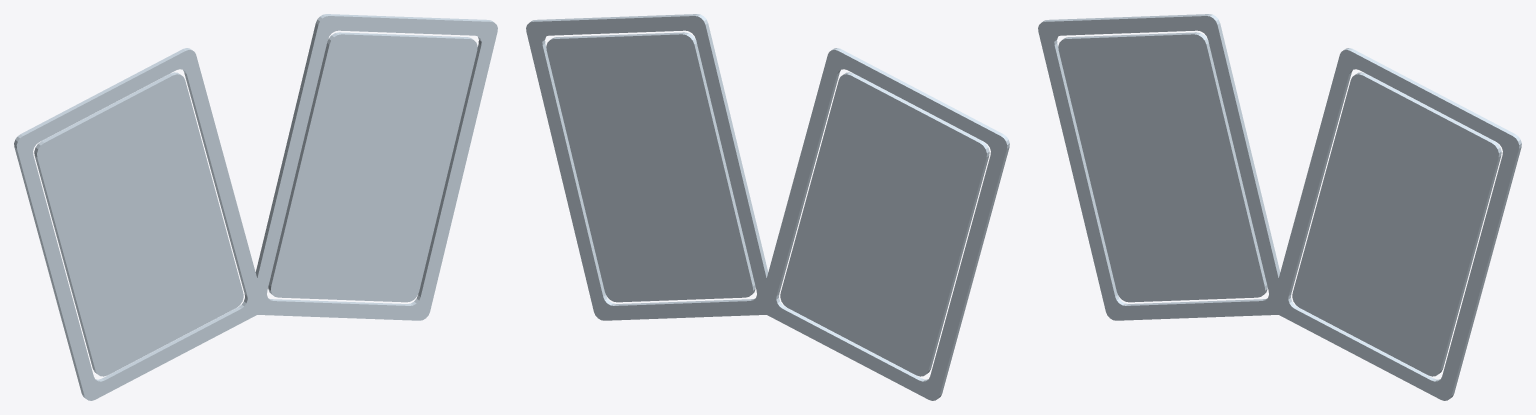
The model's file is Card_3D_Icon_02.fbx.
3 renders of one model, left to right at view 1: azimuth 30°, elevation 25°; view 2: azimuth 150°, elevation 25°; view 3: azimuth 330°, elevation 25°, orthographic.
Visible parts, largest first — view 1: Card_3D_Icon_02; view 2: Card_3D_Icon_02; view 3: Card_3D_Icon_02.
Boxes of the visible parts, x1,y1,x2,y2 form: Card_3D_Icon_02: [14, 14, 497, 400]; Card_3D_Icon_02: [526, 14, 1009, 400]; Card_3D_Icon_02: [1038, 14, 1521, 400].
Bounding box in the file's own units: 207 × 135 × 2.
